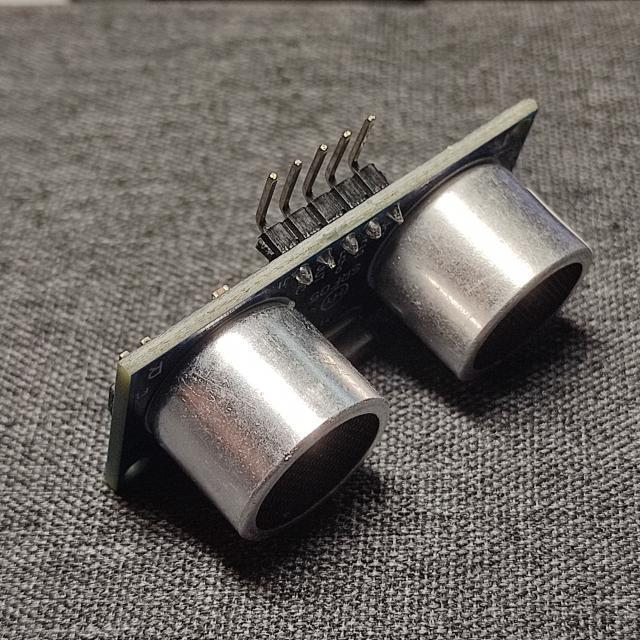Ultrasonic Sensor: (21, 34, 624, 617)
